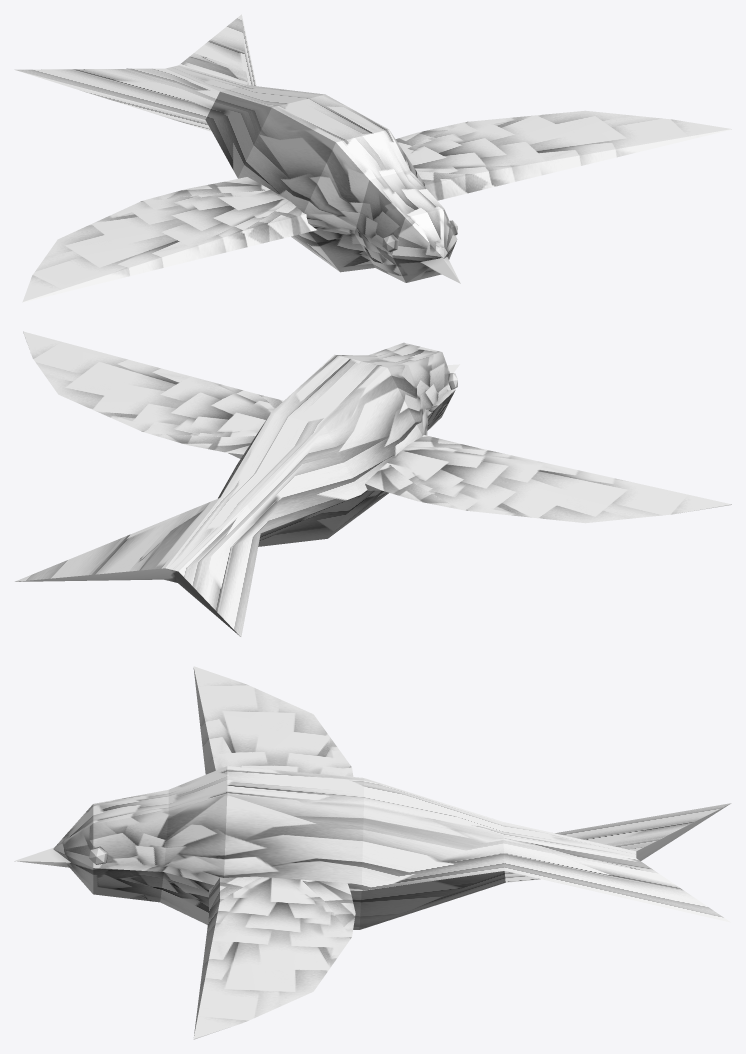
Rendered from BirdAvatar.fbx.
The picture shows the model from 3 angles, top to bottom: view 1: azimuth 30°, elevation 25°; view 2: azimuth 150°, elevation 25°; view 3: azimuth 270°, elevation 25°; orthographic projection. The views are drawn at different scales.
Parts seen in each view (by area): view 1: BirdHead_Far, wingRight, wingLeft; view 2: BirdHead_Far, wingRight, wingLeft, BirdHead_FarInside; view 3: BirdHead_Far, wingLeft, wingRight, BirdHead_FarInside.
Boxes of the visible parts, <box> form: BirdHead_Far: <box>14,14,460,283</box>; wingRight: <box>22,177,316,302</box>; wingLeft: <box>395,110,731,200</box>; BirdHead_Far: <box>14,342,459,636</box>; wingRight: <box>365,435,731,523</box>; wingLeft: <box>23,331,283,458</box>; BirdHead_FarInside: <box>15,568,240,636</box>; BirdHead_Far: <box>14,766,730,929</box>; wingLeft: <box>193,876,355,1039</box>; wingRight: <box>193,666,353,776</box>; BirdHead_FarInside: <box>636,804,729,860</box>.
Bounding box in the file's own units: 43.31 × 7.45 × 35.22.
